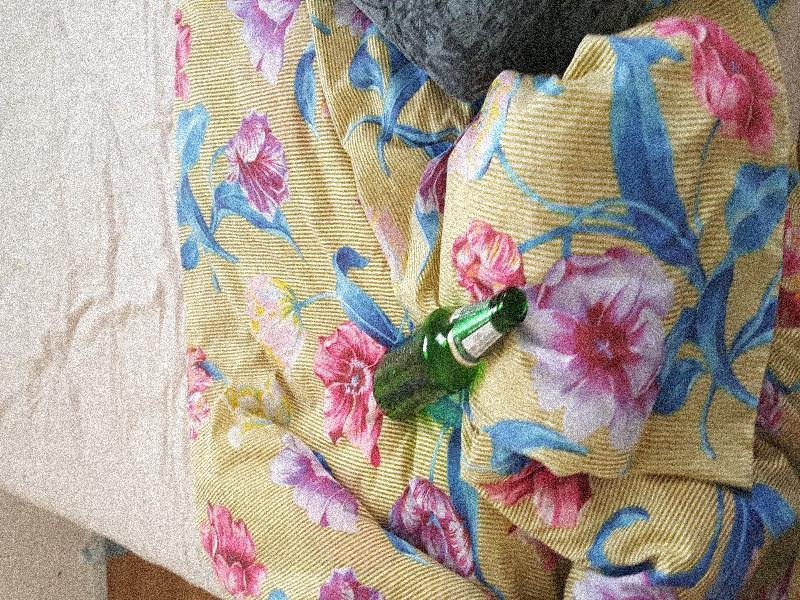Beer: (373, 289, 529, 420)
